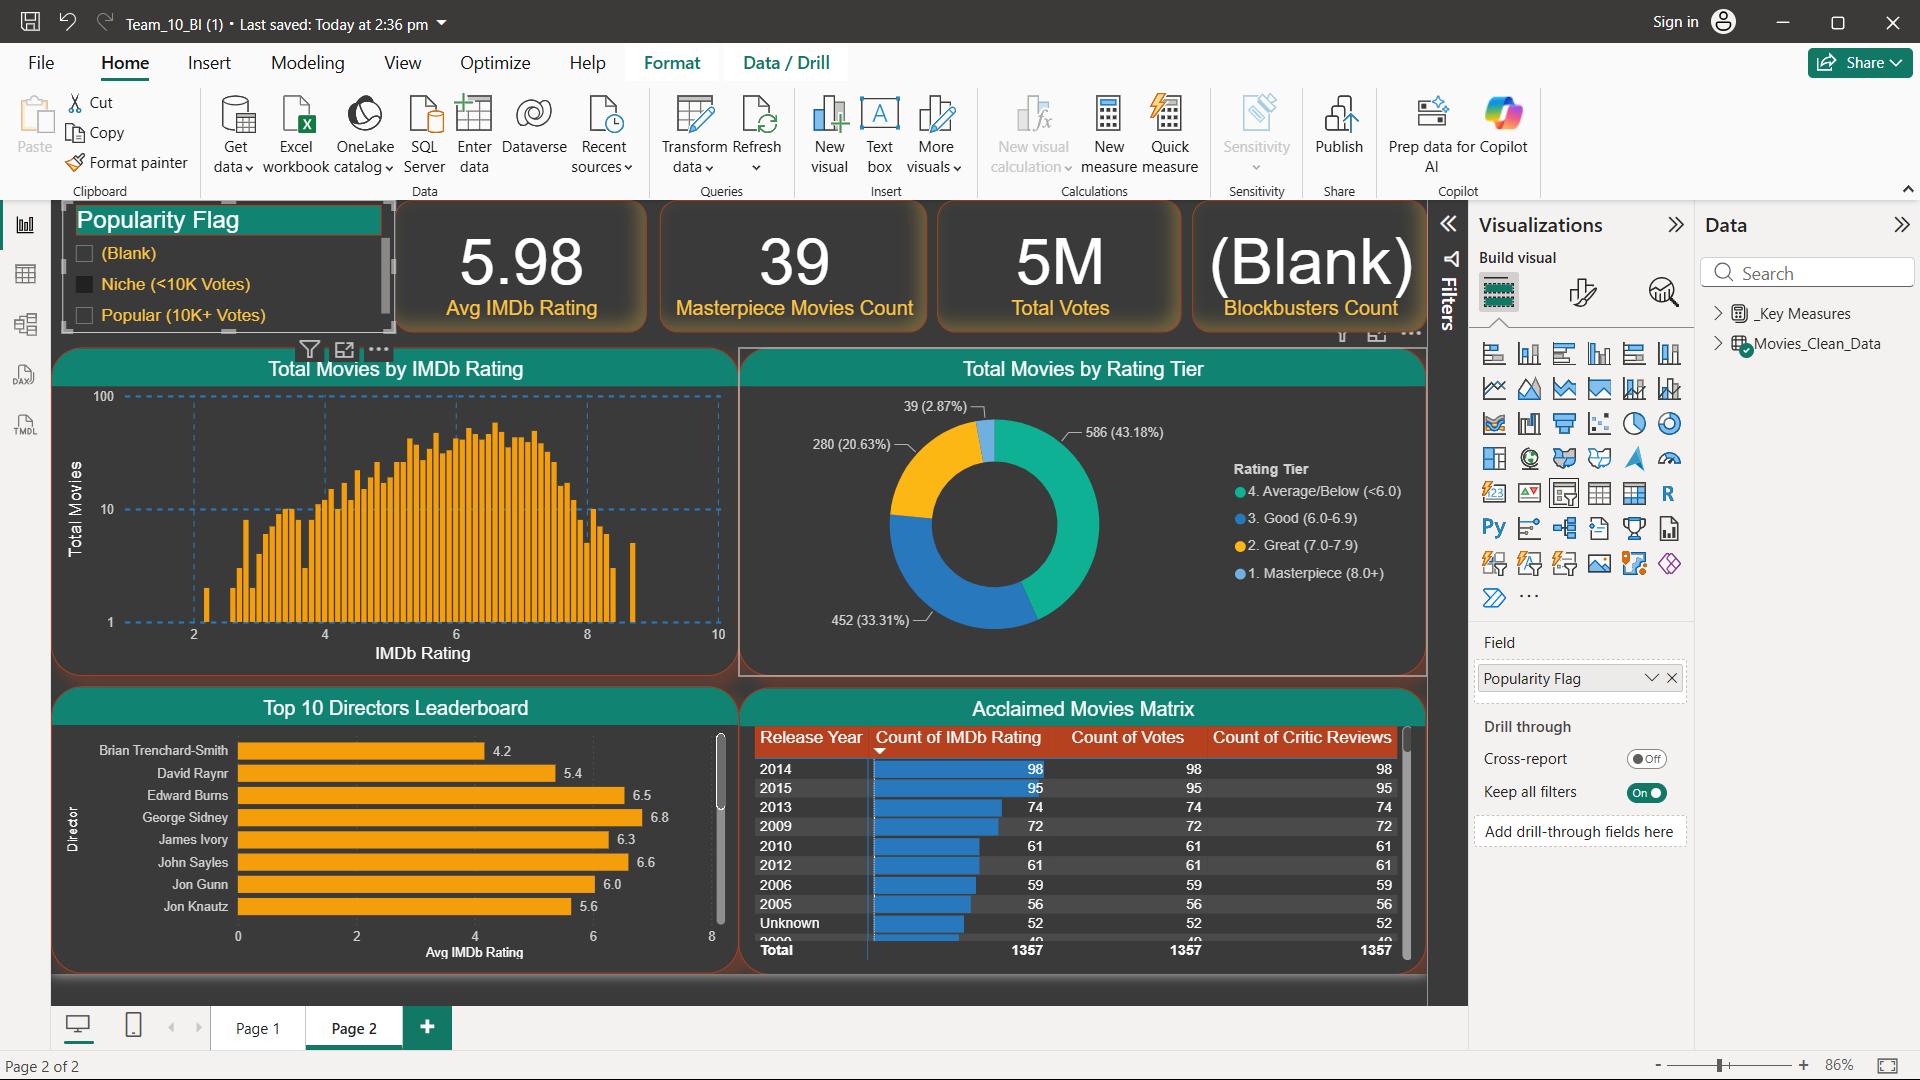

Layout of this report page (visuals, bound fields, positions):
{"tool":"powerbi","page":{"name":"Page 2","canvas":[1280,720],"ordinal":1},"visuals":[{"type":"slicer","fields":{"Values":["Movies_Clean_Data.Popularity Flag"]},"box":[10,0,310,122.9],"z":0},{"type":"card","fields":{"Values":["_Key Measures.Avg IMDb Rating"]},"box":[320,0,234.3,122.9],"z":1000},{"type":"card","fields":{"Values":["_Key Measures.Masterpiece Movies Count"]},"box":[565.7,0,248.6,122.9],"z":2000},{"type":"card","fields":{"Values":["_Key Measures.Total Votes"]},"box":[824.3,0,227.1,122.9],"z":3000},{"type":"clusteredColumnChart","fields":{"Category":["Movies_Clean_Data.IMDb Rating"],"Y":["_Key Measures.Total Movies"]},"box":[0,137.1,640,305.7],"z":4000},{"type":"donutChart","fields":{"Category":["Movies_Clean_Data.Rating Tier"],"Y":["_Key Measures.Total Movies"]},"box":[640,137.1,640,305.7],"z":5000},{"type":"clusteredBarChart","title":"Top 10 Directors Leaderboard","fields":{"Category":["Movies_Clean_Data.Director"],"Y":["_Key Measures.Avg IMDb Rating"]},"box":[0,452.9,640,267.1],"z":6000},{"type":"pivotTable","title":" Acclaimed Movies Matrix","fields":{"Rows":["Movies_Clean_Data.Movie Title","Movies_Clean_Data.Release Year","Movies_Clean_Data.Director"],"Values":["CountNonNull(Movies_Clean_Data.IMDb Rating)","CountNonNull(Movies_Clean_Data.Votes)","CountNonNull(Movies_Clean_Data.Critic Reviews)"]},"box":[640,453,640,267],"z":7000},{"type":"card","fields":{"Values":["_Key Measures.Blockbusters Count"]},"box":[1061.4,0,218.6,122.9],"z":7001}]}

Visuals, with their boxes on the page's 1280x720 design canvas (x1, y1, x2, y2). These are canvas units, not pixel positions in the 1920x1080 screenshot, which may show the page scaled, cropped or inside an application window:
slicer - Movies_Clean_Data.Popularity Flag: <box>10,0,320,123</box>
card - _Key Measures.Avg IMDb Rating: <box>320,0,554,123</box>
card - _Key Measures.Masterpiece Movies Count: <box>566,0,814,123</box>
card - _Key Measures.Total Votes: <box>824,0,1051,123</box>
clusteredColumnChart - Movies_Clean_Data.IMDb Rating x _Key Measures.Total Movies: <box>0,137,640,443</box>
donutChart - Movies_Clean_Data.Rating Tier x _Key Measures.Total Movies: <box>640,137,1280,443</box>
"Top 10 Directors Leaderboard" clusteredBarChart: <box>0,453,640,720</box>
" Acclaimed Movies Matrix" pivotTable: <box>640,453,1280,720</box>
card - _Key Measures.Blockbusters Count: <box>1061,0,1280,123</box>
